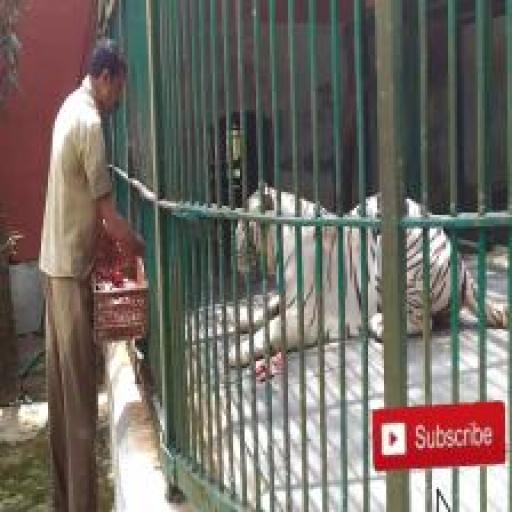Tiger: (228, 180, 510, 374)
